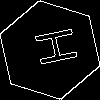H: (24, 25, 79, 70)
